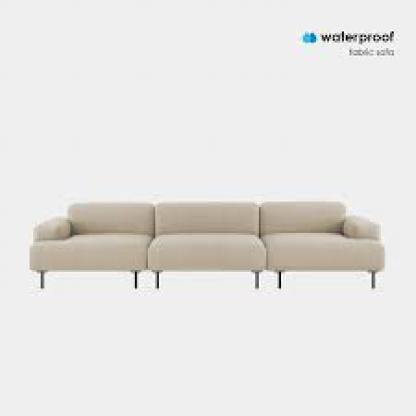sofa: (28, 202, 386, 298)
